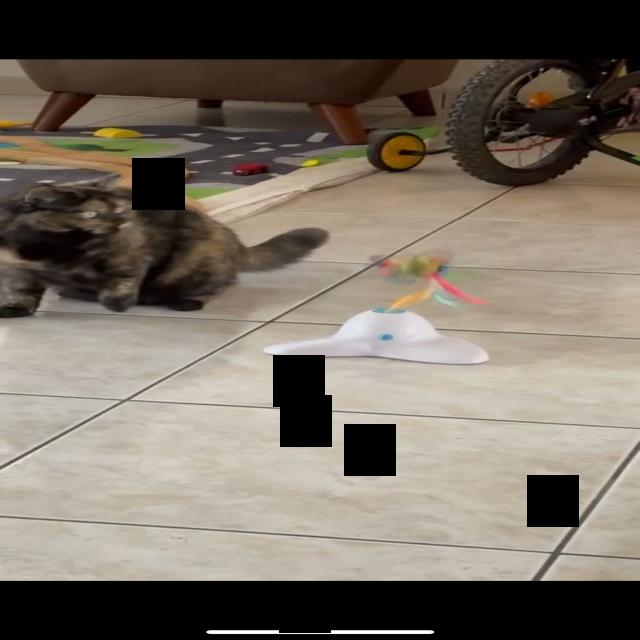authorized: (0, 172, 330, 318)
